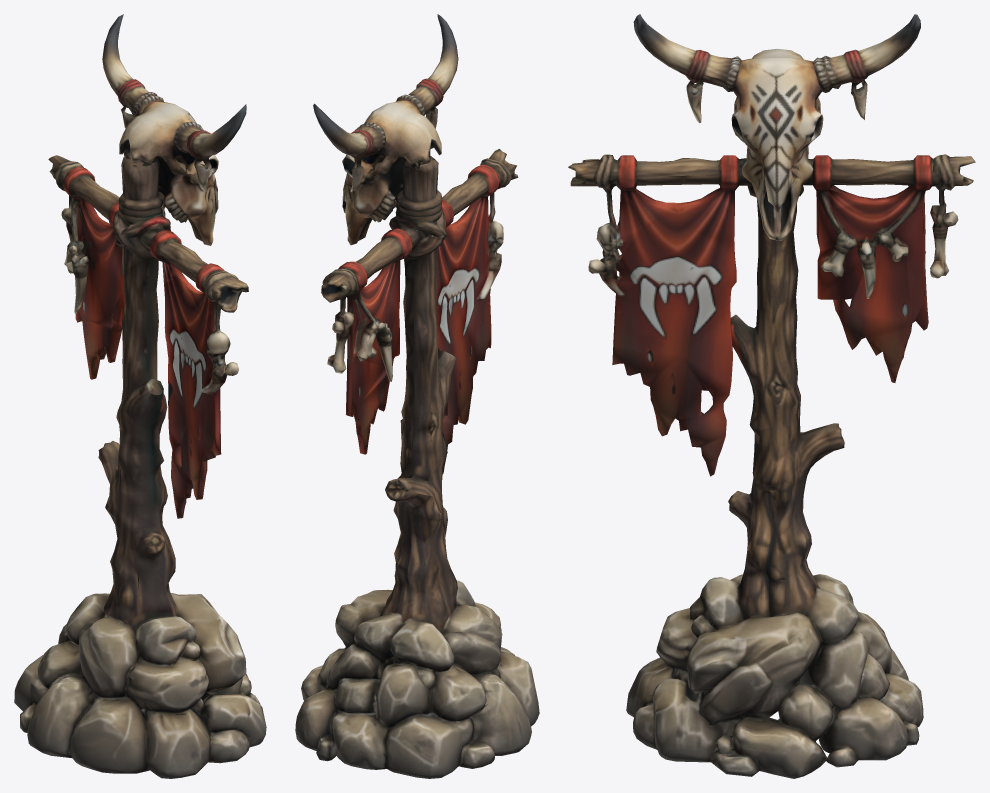
The picture shows the model from 3 angles, left to right: view 1: azimuth 30°, elevation 25°; view 2: azimuth 150°, elevation 25°; view 3: azimuth 270°, elevation 25°; orthographic projection. The views are drawn at different scales.
Visible parts, largest first — view 1: repaired; view 2: repaired; view 3: repaired.
Boxes of the visible parts, box(x1,y1,x2,y2) form: repaired: box(14, 14, 266, 778); repaired: box(295, 14, 539, 778); repaired: box(568, 14, 975, 778).
Size of the model in its own units: 0.3451 by 0.9988 by 0.5027.
1 material, 1 textured.
